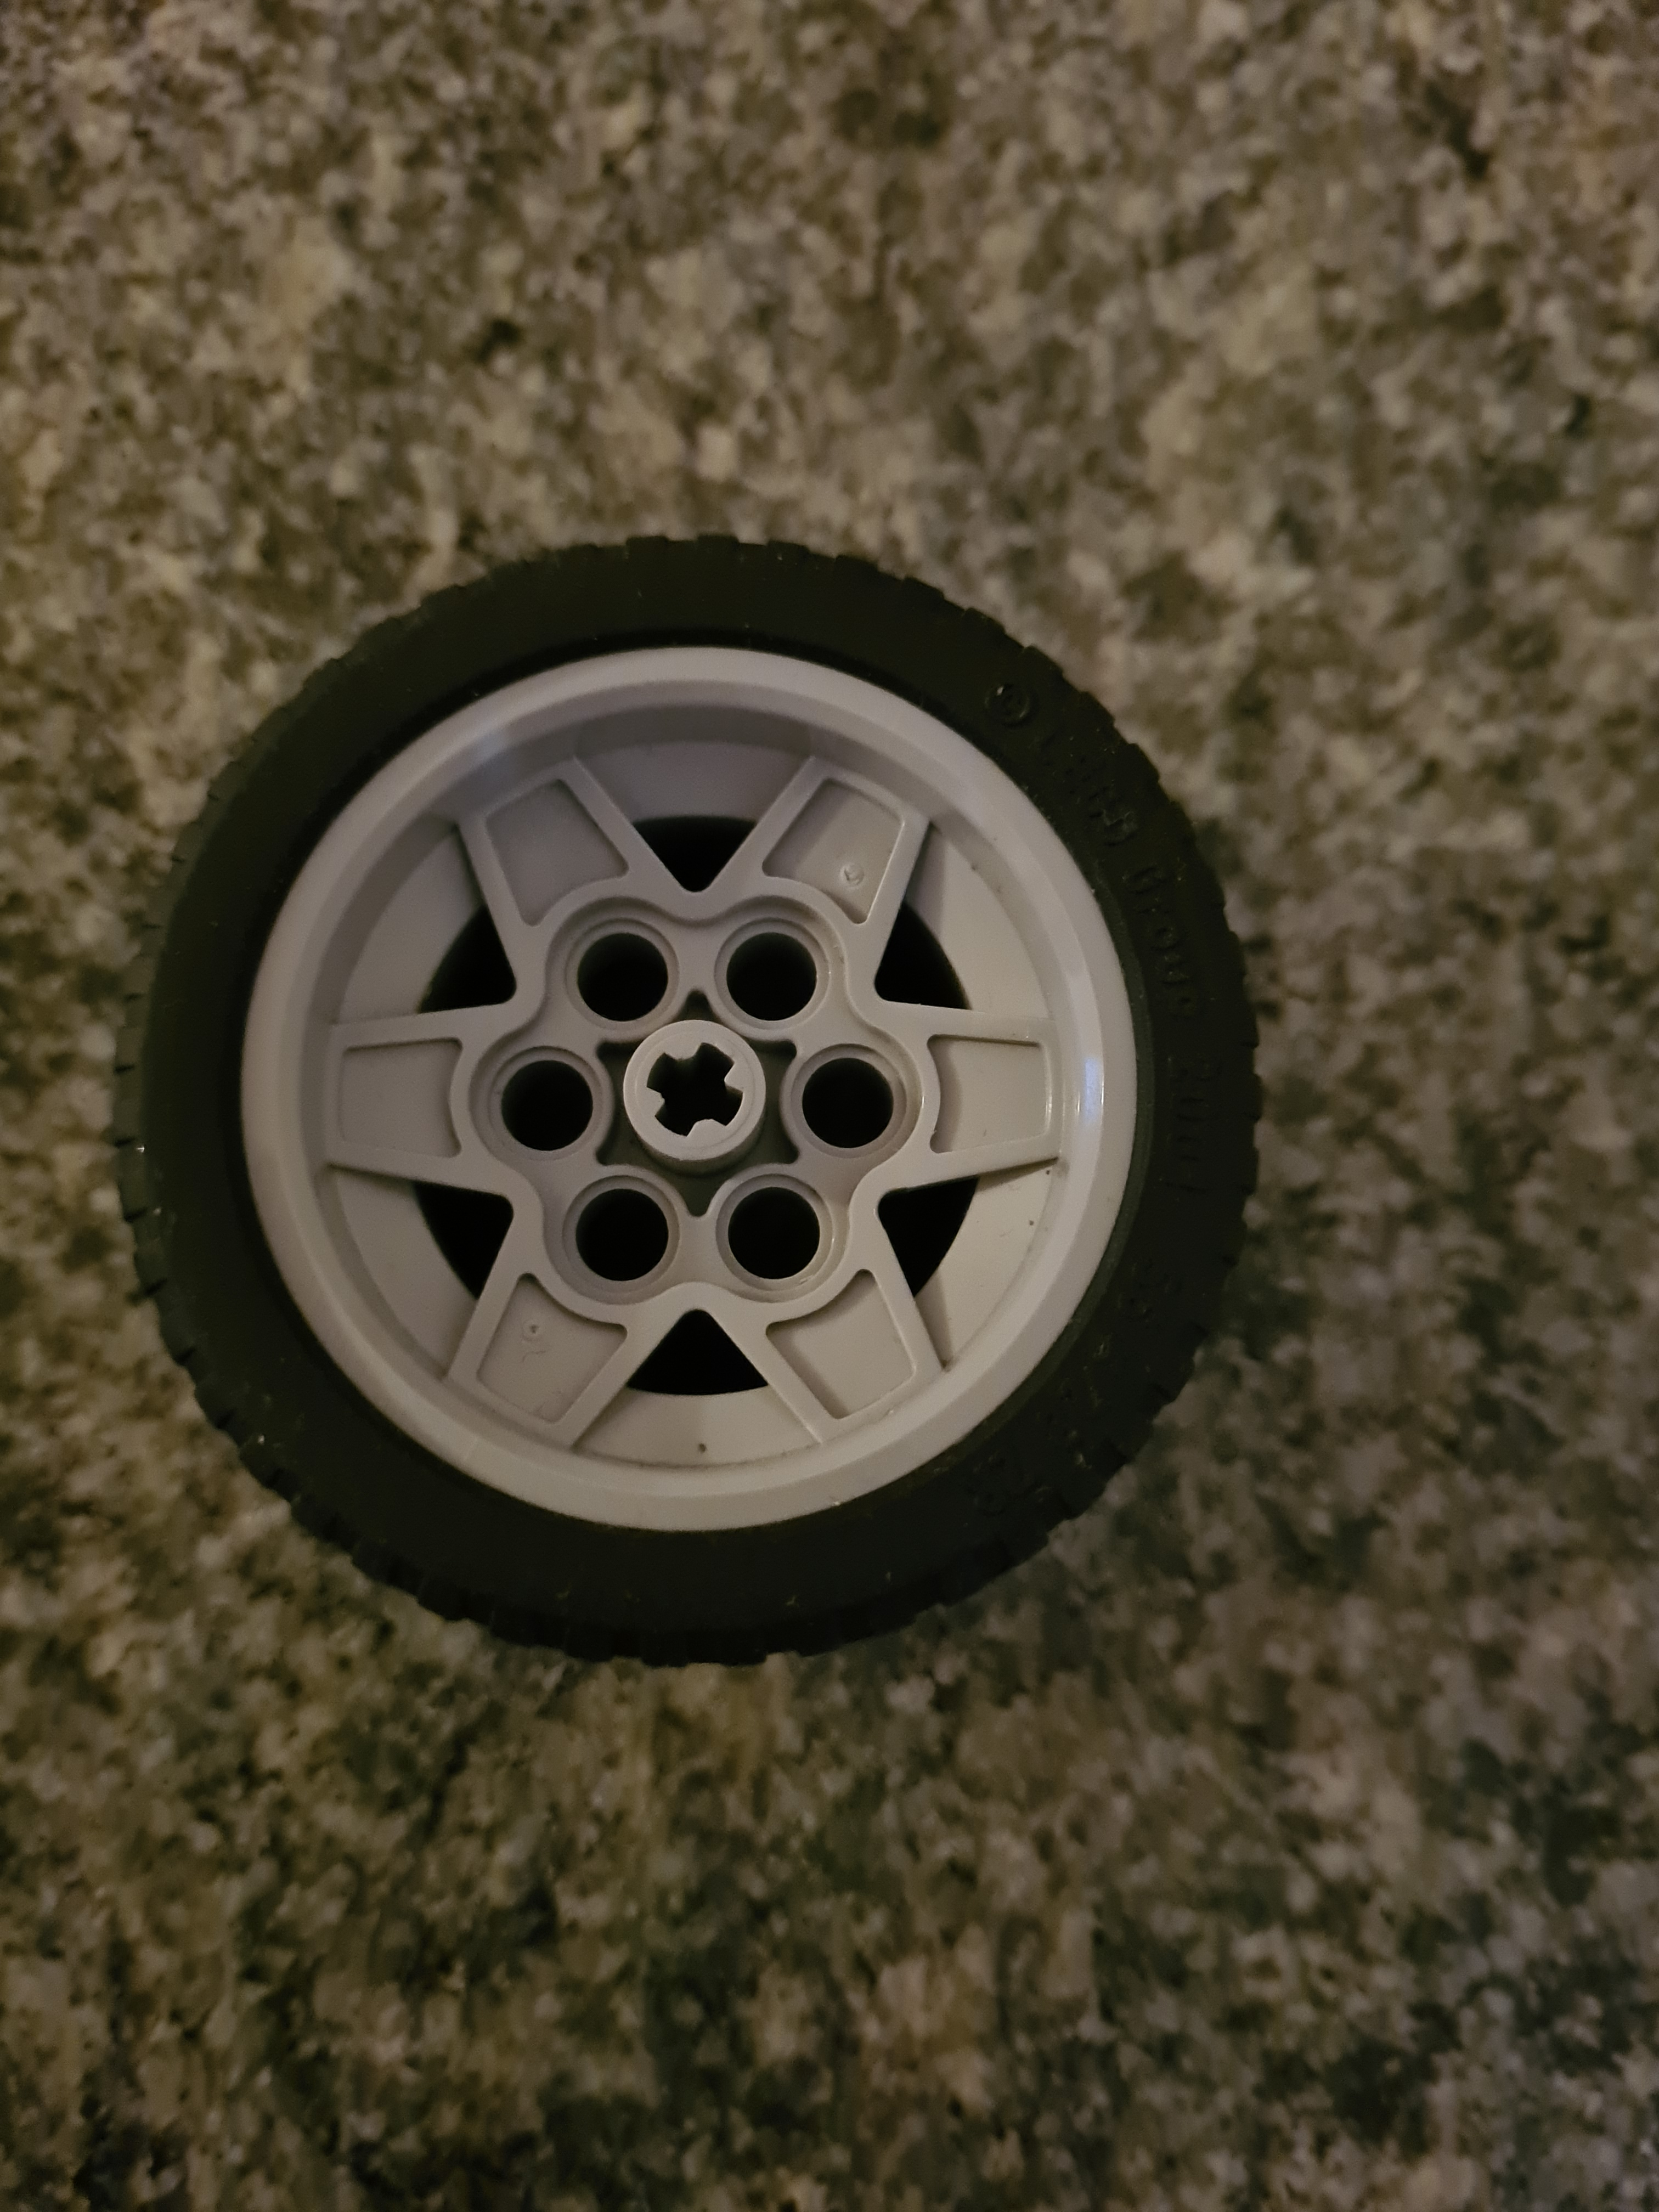Rad: (80, 516, 1288, 1707)
